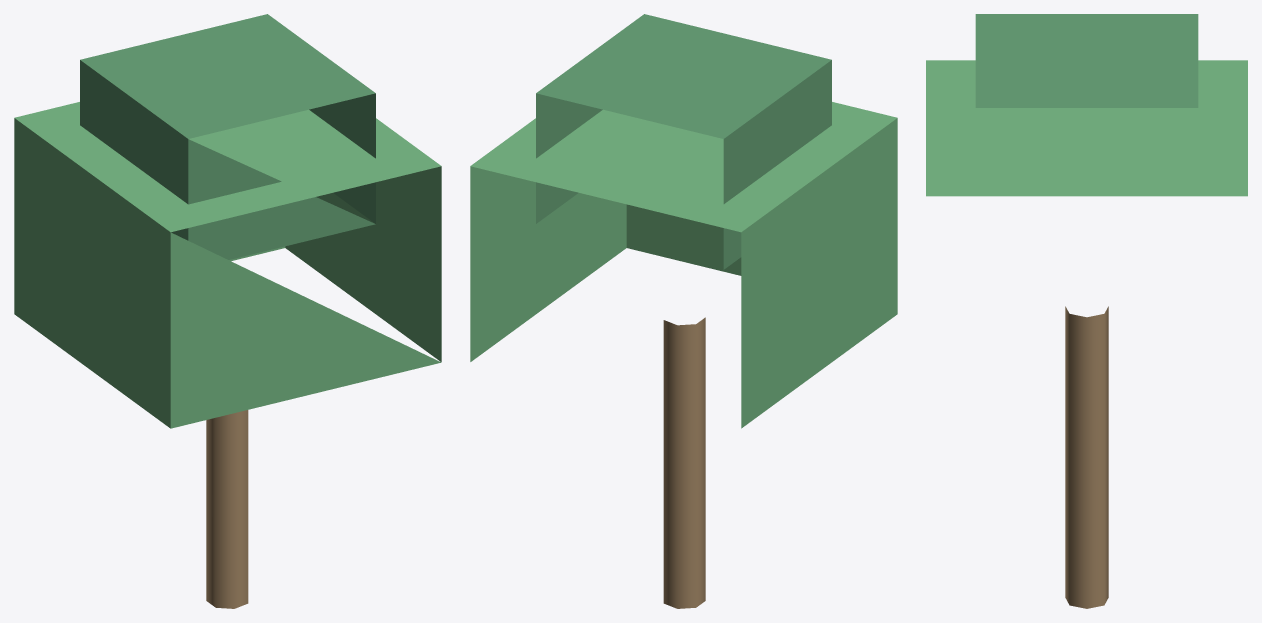
The model's file is ASTX_VEG_TROPICAL_TREE.glb.
3 views of the same model, side by side, from view 1: azimuth 30°, elevation 25°; view 2: azimuth 150°, elevation 25°; view 3: azimuth 270°, elevation 25° (orthographic). The views are drawn at different scales.
Visible parts, largest first — view 1: ASTX_VEG_TREE_crown1, ASTX_VEG_TREE_crown2, ASTX_VEG_TREE_trunk; view 2: ASTX_VEG_TREE_crown1, ASTX_VEG_TREE_crown2, ASTX_VEG_TREE_trunk; view 3: ASTX_VEG_TREE_crown1, ASTX_VEG_TREE_crown2, ASTX_VEG_TREE_trunk.
Part boxes in pixels (x1,y1,x2,y2): ASTX_VEG_TREE_crown1: (14, 102, 441, 428); ASTX_VEG_TREE_crown2: (80, 14, 375, 259); ASTX_VEG_TREE_trunk: (206, 410, 248, 608); ASTX_VEG_TREE_crown1: (470, 102, 897, 428); ASTX_VEG_TREE_crown2: (536, 14, 831, 269); ASTX_VEG_TREE_trunk: (663, 317, 705, 608); ASTX_VEG_TREE_crown1: (926, 60, 1247, 196); ASTX_VEG_TREE_crown2: (975, 14, 1198, 107); ASTX_VEG_TREE_trunk: (1065, 306, 1108, 608).
Size of the model in its own units: 2.6 by 4.8 by 2.6.
